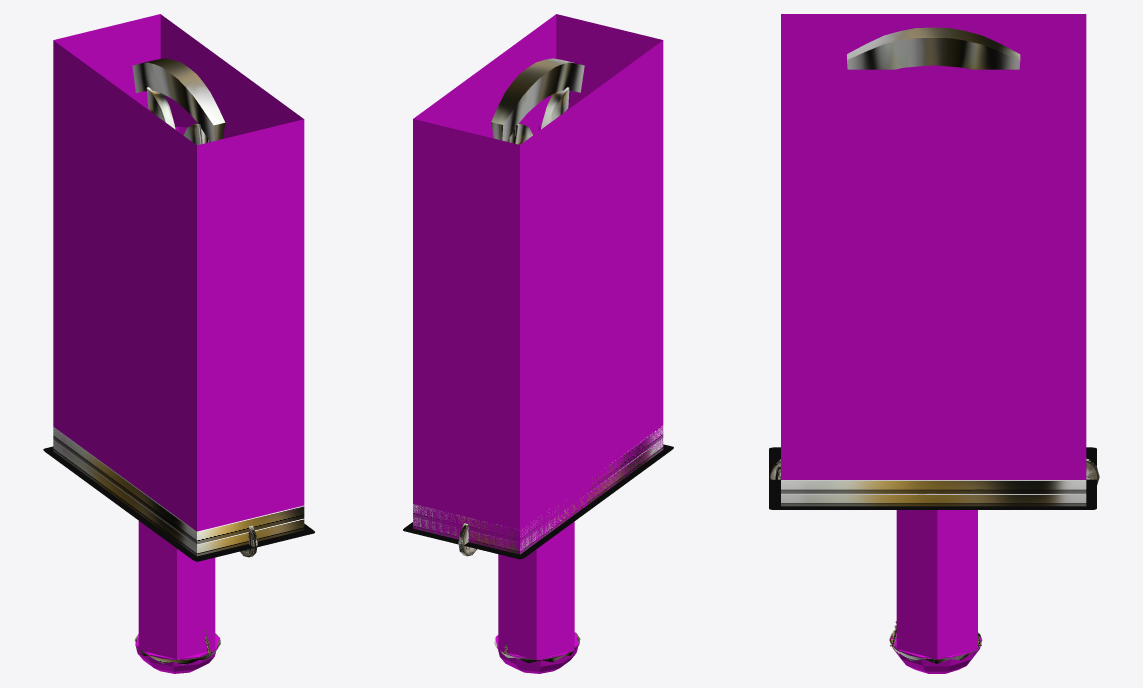
The model's file is lb_scale.fbx.
3 renders of one model, left to right at view 1: azimuth 30°, elevation 25°; view 2: azimuth 150°, elevation 25°; view 3: azimuth 270°, elevation 25°, orthographic. The views are drawn at different scales.
Visible parts, largest first — view 1: BaseHighCol, DefenseHighCol, Scale_base, Scale_top, shadow_3, Scale_top_4, ProsecutionCol; view 2: BaseHighCol, DefenseHighCol, Scale_top, Scale_base, shadow_3, Scale_top_4, DefenseCol; view 3: BaseHighCol, DefenseHighCol, Scale_base, Scale_top, shadow_3, DefenseCol.
Part boxes in pixels (x1=…): BaseHighCol: x1=53, y1=14, x2=304, y2=531; DefenseHighCol: x1=138, y1=521, x2=215, y2=659; Scale_base: x1=53, y1=427, x2=304, y2=556; Scale_top: x1=132, y1=58, x2=225, y2=141; shadow_3: x1=43, y1=446, x2=314, y2=561; Scale_top_4: x1=146, y1=87, x2=208, y2=145; ProsecutionCol: x1=136, y1=635, x2=219, y2=673; BaseHighCol: x1=413, y1=14, x2=663, y2=554; DefenseHighCol: x1=498, y1=521, x2=574, y2=660; Scale_top: x1=491, y1=58, x2=584, y2=141; Scale_base: x1=413, y1=425, x2=663, y2=554; shadow_3: x1=403, y1=444, x2=673, y2=559; Scale_top_4: x1=507, y1=87, x2=569, y2=144; DefenseCol: x1=495, y1=638, x2=578, y2=673; BaseHighCol: x1=781, y1=14, x2=1086, y2=479; DefenseHighCol: x1=896, y1=510, x2=977, y2=659; Scale_base: x1=781, y1=480, x2=1086, y2=506; Scale_top: x1=847, y1=27, x2=1020, y2=69; shadow_3: x1=769, y1=447, x2=1096, y2=509; DefenseCol: x1=907, y1=637, x2=981, y2=673.
Size of what is drawn, in the model's own units: 6.7 by 26.26 by 14.78.
13 materials, 11 textured.
